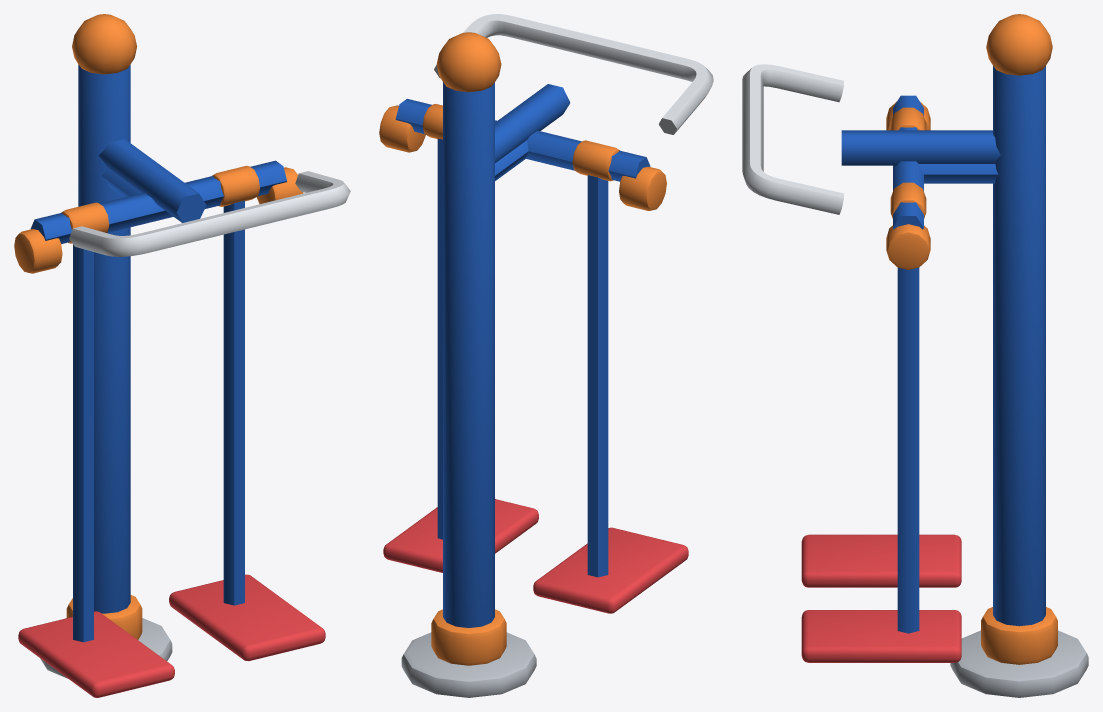
Rendered from academia_caminhada.glb.
The picture shows the model from 3 angles, left to right: view 1: azimuth 30°, elevation 25°; view 2: azimuth 150°, elevation 25°; view 3: azimuth 270°, elevation 25°; orthographic projection. The views are drawn at different scales.
Parts seen in each view (by area): view 1: academia_caminhada, perna_dir, perna_esq; view 2: academia_caminhada, perna_esq, perna_dir; view 3: academia_caminhada, perna_dir, perna_esq.
Part boxes in pixels (<box>): academia_caminhada: <box>14,14,350,678</box>; perna_dir: <box>169,165,325,661</box>; perna_esq: <box>18,202,174,697</box>; academia_caminhada: <box>379,14,713,697</box>; perna_esq: <box>533,140,688,613</box>; perna_dir: <box>383,104,538,572</box>; academia_caminhada: <box>742,14,1088,697</box>; perna_dir: <box>801,182,961,662</box>; perna_esq: <box>801,107,961,587</box>.
Bounding box in the file's own units: 0.72 × 1.62 × 0.7802.
Materials: 1 (1 with a texture image).
